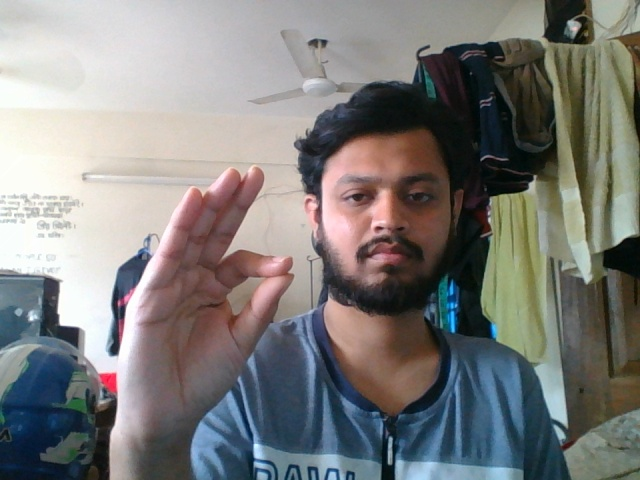ieo: (117, 159, 300, 441)
